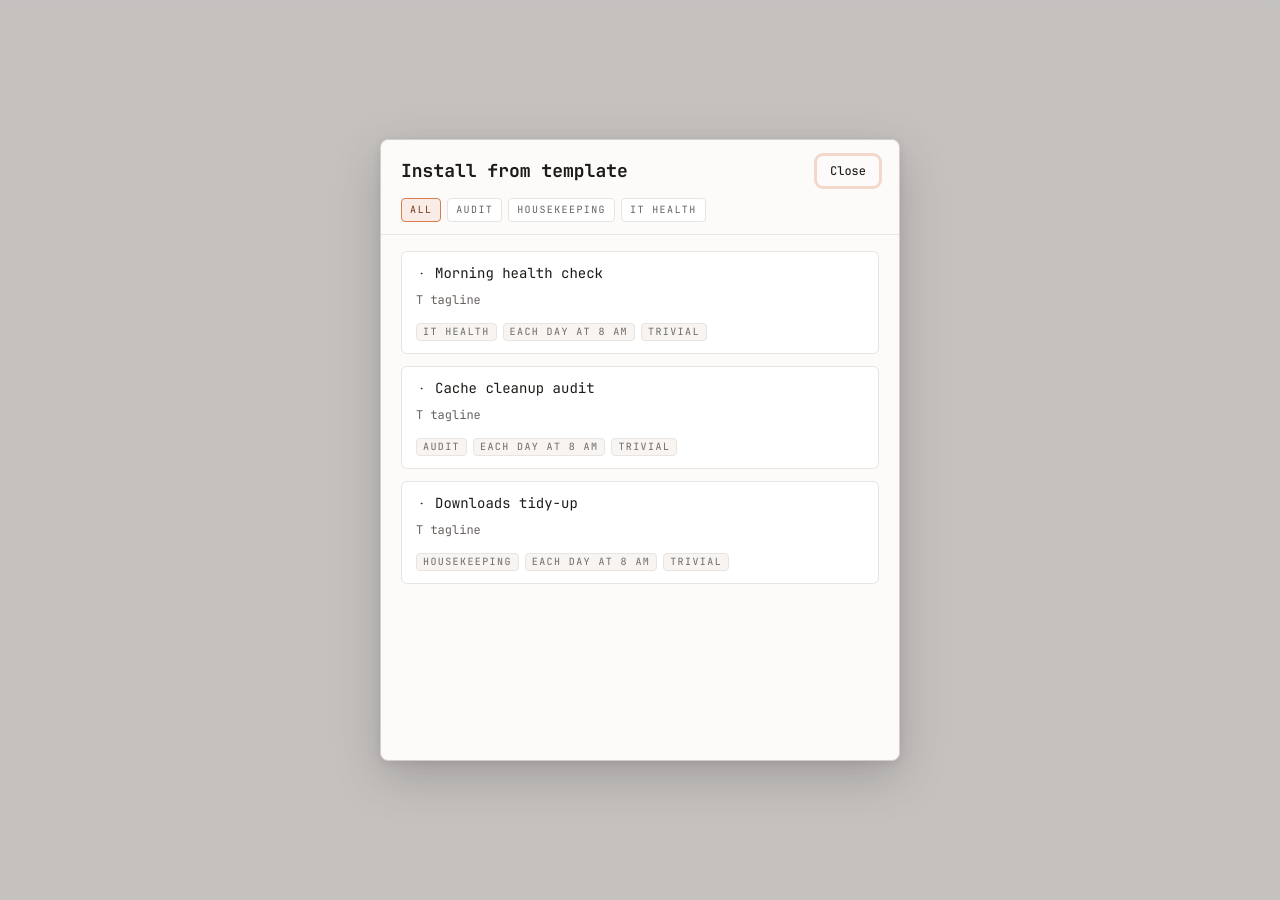
Scenario: TemplateGallery — category filtering › 'All' returns to the unfiltered grid
Expected: the text "Morning health check" is shown, x1=435 y1=264 x2=603 y2=284
Click the button "Audit": (475,210) x1=447 y1=198 x2=502 y2=222
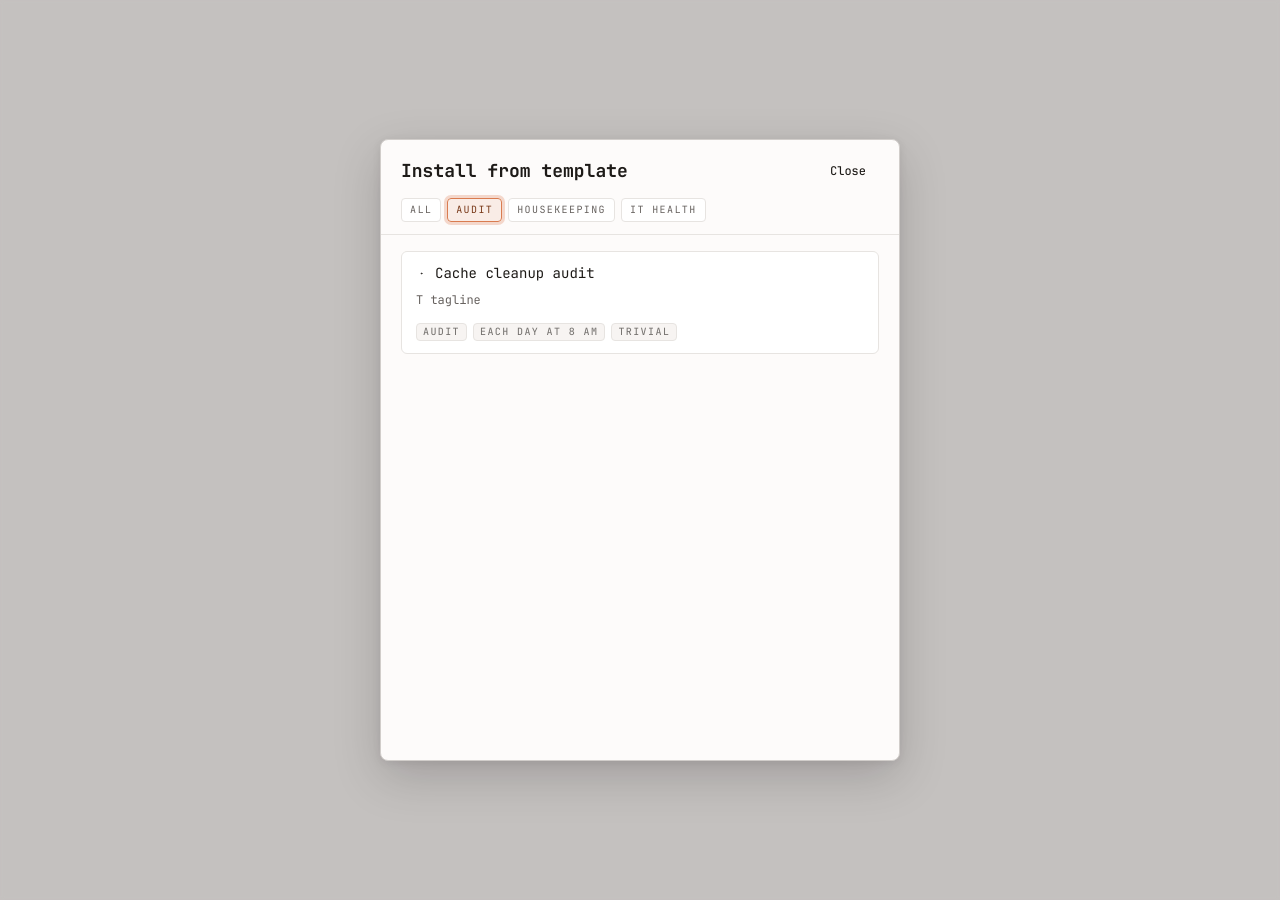
Click the button "All": (421,210) x1=401 y1=198 x2=441 y2=222
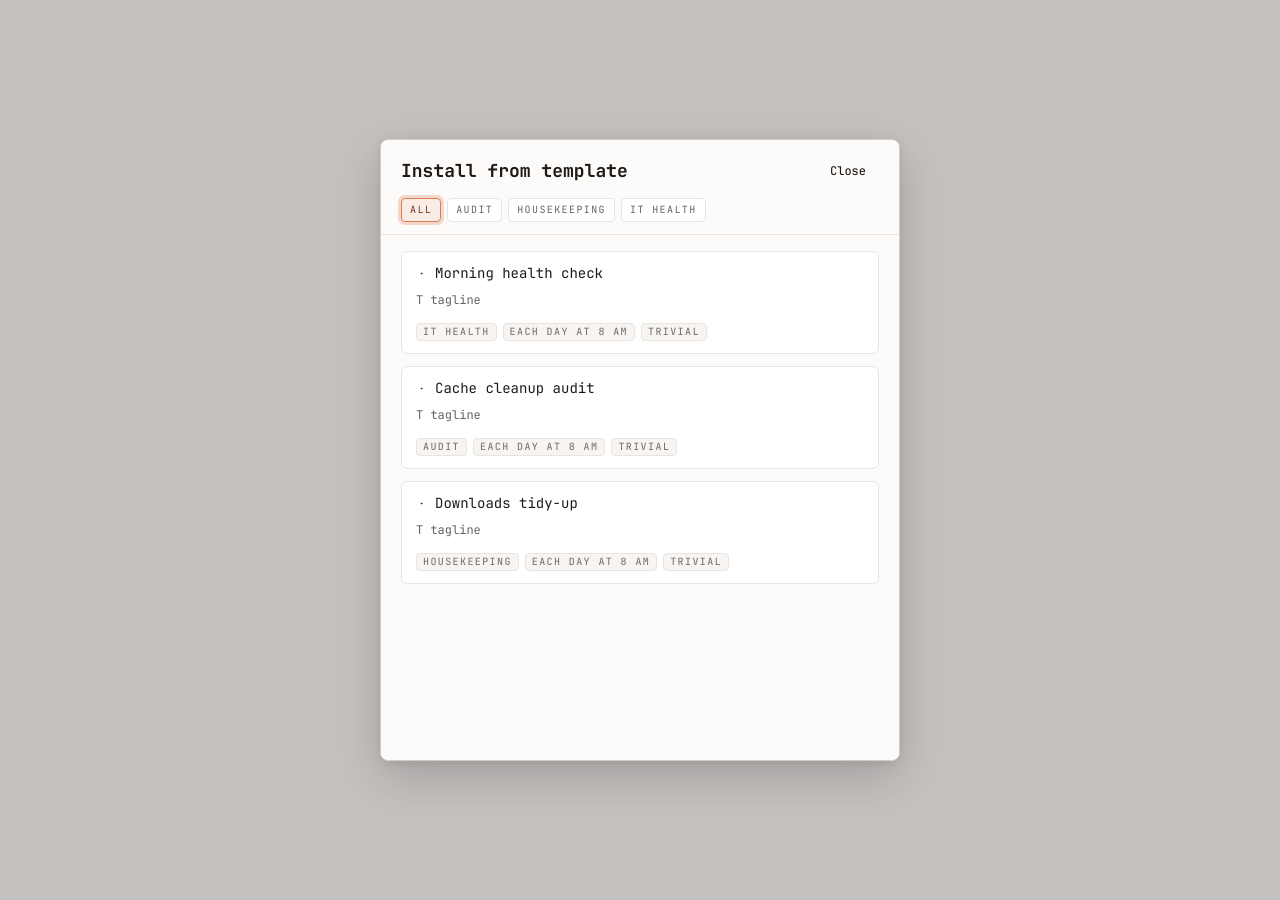
Expected: the text "Cache cleanup audit" is shown, x1=435 y1=379 x2=595 y2=399
Now the text "Morning health check" is shown, box x1=435 y1=264 x2=603 y2=284
Now the text "Downloads tidy-up" is shown, box x1=435 y1=494 x2=578 y2=514
